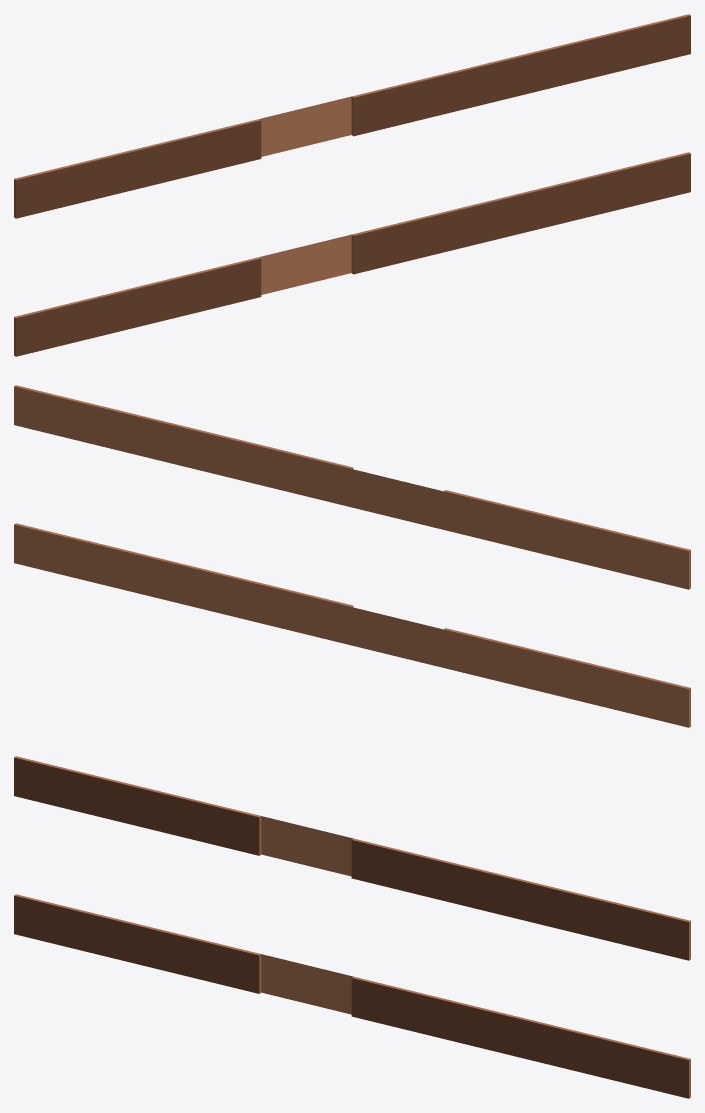
The model's file is narty.obj.
3 renders of one model, top to bottom at view 1: azimuth 30°, elevation 25°; view 2: azimuth 150°, elevation 25°; view 3: azimuth 330°, elevation 25°, orthographic.
Parts seen in each view (by area): view 1: Mesh2_Model, Mesh1_Model.002; view 2: Mesh2_Model, Mesh1_Model.002; view 3: Mesh1_Model.002, Mesh2_Model.
Boxes of the visible parts, x1,y1,x2,y2 form: Mesh2_Model: [14, 14, 690, 218]; Mesh1_Model.002: [14, 152, 690, 356]; Mesh2_Model: [14, 385, 690, 589]; Mesh1_Model.002: [14, 523, 690, 727]; Mesh1_Model.002: [14, 894, 690, 1098]; Mesh2_Model: [14, 756, 690, 960].
Bounding box in the file's own units: 2.2 × 0.55 × 0.0109.
2 materials, 2 textured.
